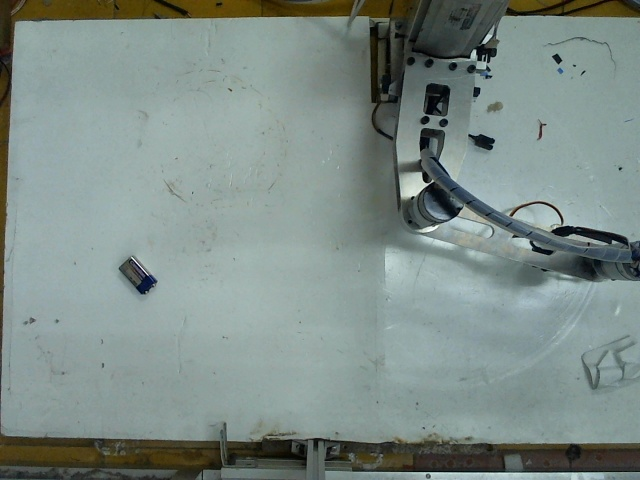battery: (114, 253, 159, 297)
